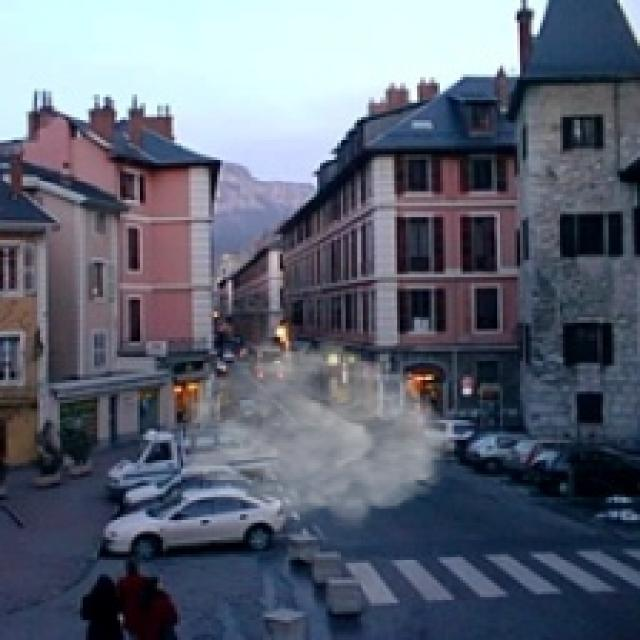smoke: (186, 332, 454, 532)
